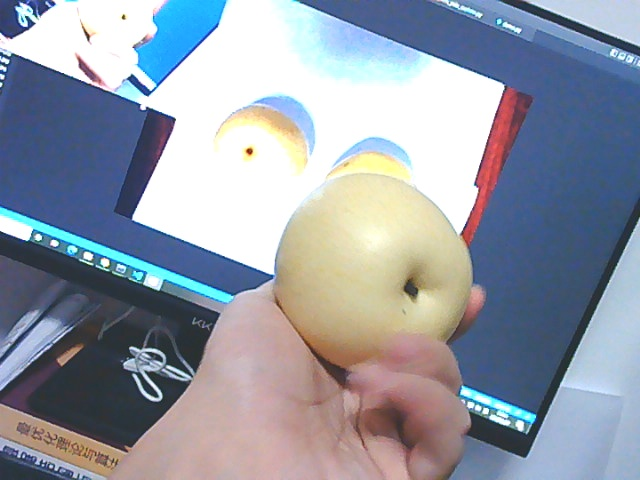pear: (276, 181, 473, 362)
